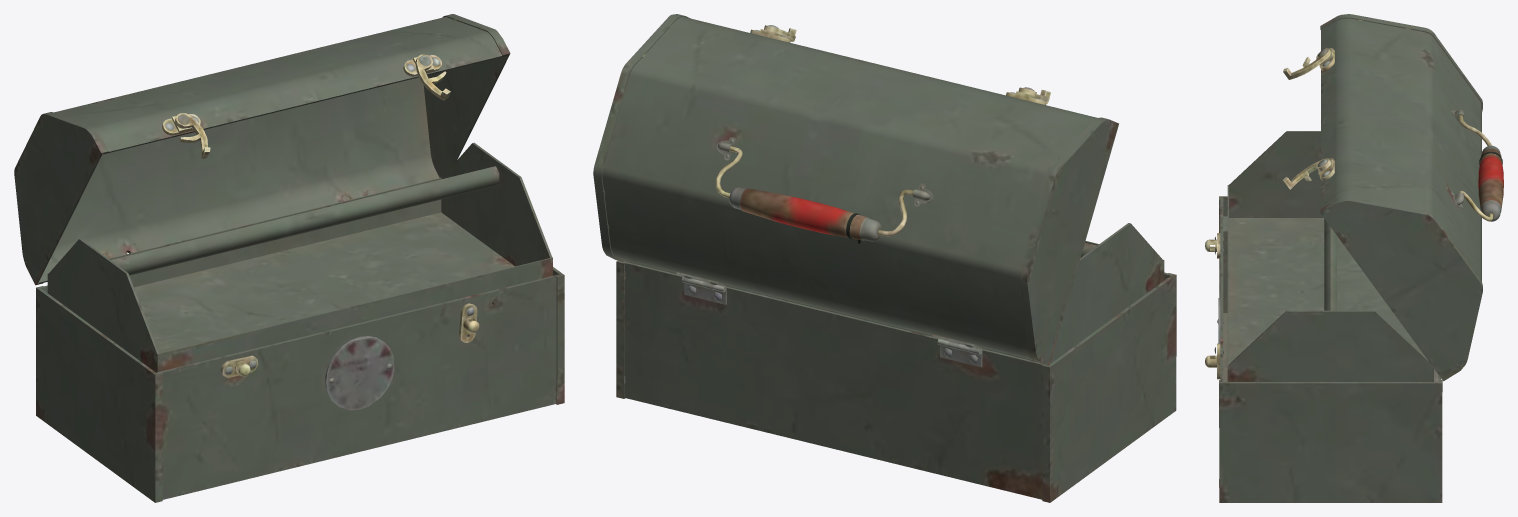
The model's file is metal_toolbox.glb.
The picture shows the model from 3 angles, left to right: view 1: azimuth 30°, elevation 25°; view 2: azimuth 150°, elevation 25°; view 3: azimuth 270°, elevation 25°; orthographic projection. The views are drawn at different scales.
Parts seen in each view (by area): view 1: Cylinder.015, metal_toolbox, metal_toolbox_tray, metal_toolbox_handle_latch_r, metal_toolbox_handle_latch_l; view 2: Cylinder.015, metal_toolbox, metal_toolbox_tray, metal_toolbox_handle; view 3: Cylinder.015, metal_toolbox_tray, metal_toolbox, metal_toolbox_handle, metal_toolbox_handle_latch_l, metal_toolbox_handle_latch_r.
Boxes of the visible parts, <box> form: Cylinder.015: <box>14,14,510,285</box>; metal_toolbox: <box>36,267,564,502</box>; metal_toolbox_tray: <box>47,142,552,372</box>; metal_toolbox_handle_latch_r: <box>415,54,450,100</box>; metal_toolbox_handle_latch_l: <box>175,113,210,158</box>; Cylinder.015: <box>593,14,1118,365</box>; metal_toolbox: <box>616,260,1176,502</box>; metal_toolbox_tray: <box>629,223,1164,363</box>; metal_toolbox_handle: <box>715,146,913,243</box>; Cylinder.015: <box>1318,14,1482,381</box>; metal_toolbox_tray: <box>1227,131,1433,381</box>; metal_toolbox: <box>1205,196,1442,502</box>; metal_toolbox_handle: <box>1458,114,1503,221</box>; metal_toolbox_handle_latch_l: <box>1283,48,1331,79</box>; metal_toolbox_handle_latch_r: <box>1283,158,1330,189</box>.
Bounding box in the file's own units: 0.4 × 0.3047 × 0.2705.
1 material, 1 textured.
